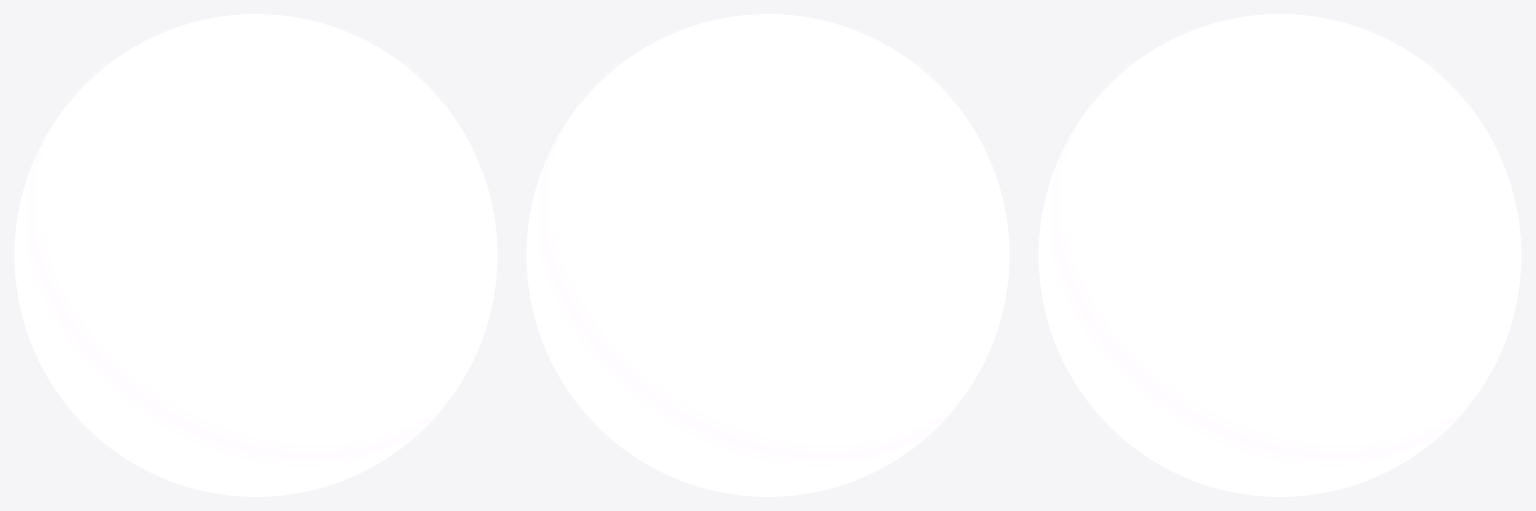
Rendered from balle.gltf.
The picture shows the model from 3 angles, left to right: view 1: azimuth 30°, elevation 25°; view 2: azimuth 150°, elevation 25°; view 3: azimuth 270°, elevation 25°; orthographic projection.
Parts seen in each view (by area): view 1: ball; view 2: ball; view 3: ball.
Part boxes in pixels (x1,y1,x2,y2): ball: (14,14,497,496); ball: (526,14,1009,496); ball: (1038,14,1521,496).
Bounding box in the file's own units: 200 × 200 × 200.
